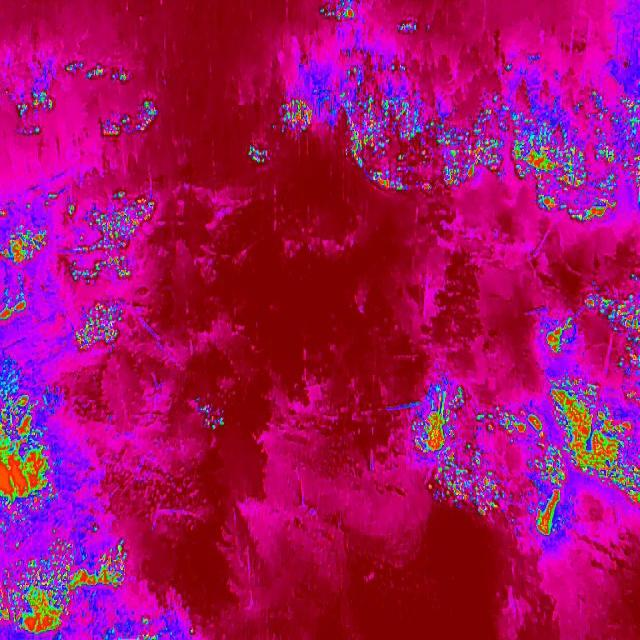fire: (0, 188, 154, 353), (329, 93, 505, 193), (508, 89, 640, 222), (546, 374, 638, 524), (0, 536, 138, 635), (427, 444, 520, 528), (0, 390, 57, 518), (585, 287, 640, 374), (532, 447, 570, 538), (100, 91, 164, 144), (470, 405, 547, 447), (4, 84, 58, 138), (412, 399, 452, 459), (61, 58, 135, 88), (542, 313, 582, 365), (278, 98, 315, 138), (196, 395, 230, 433), (318, 0, 360, 28), (248, 140, 271, 165), (394, 20, 422, 38)
